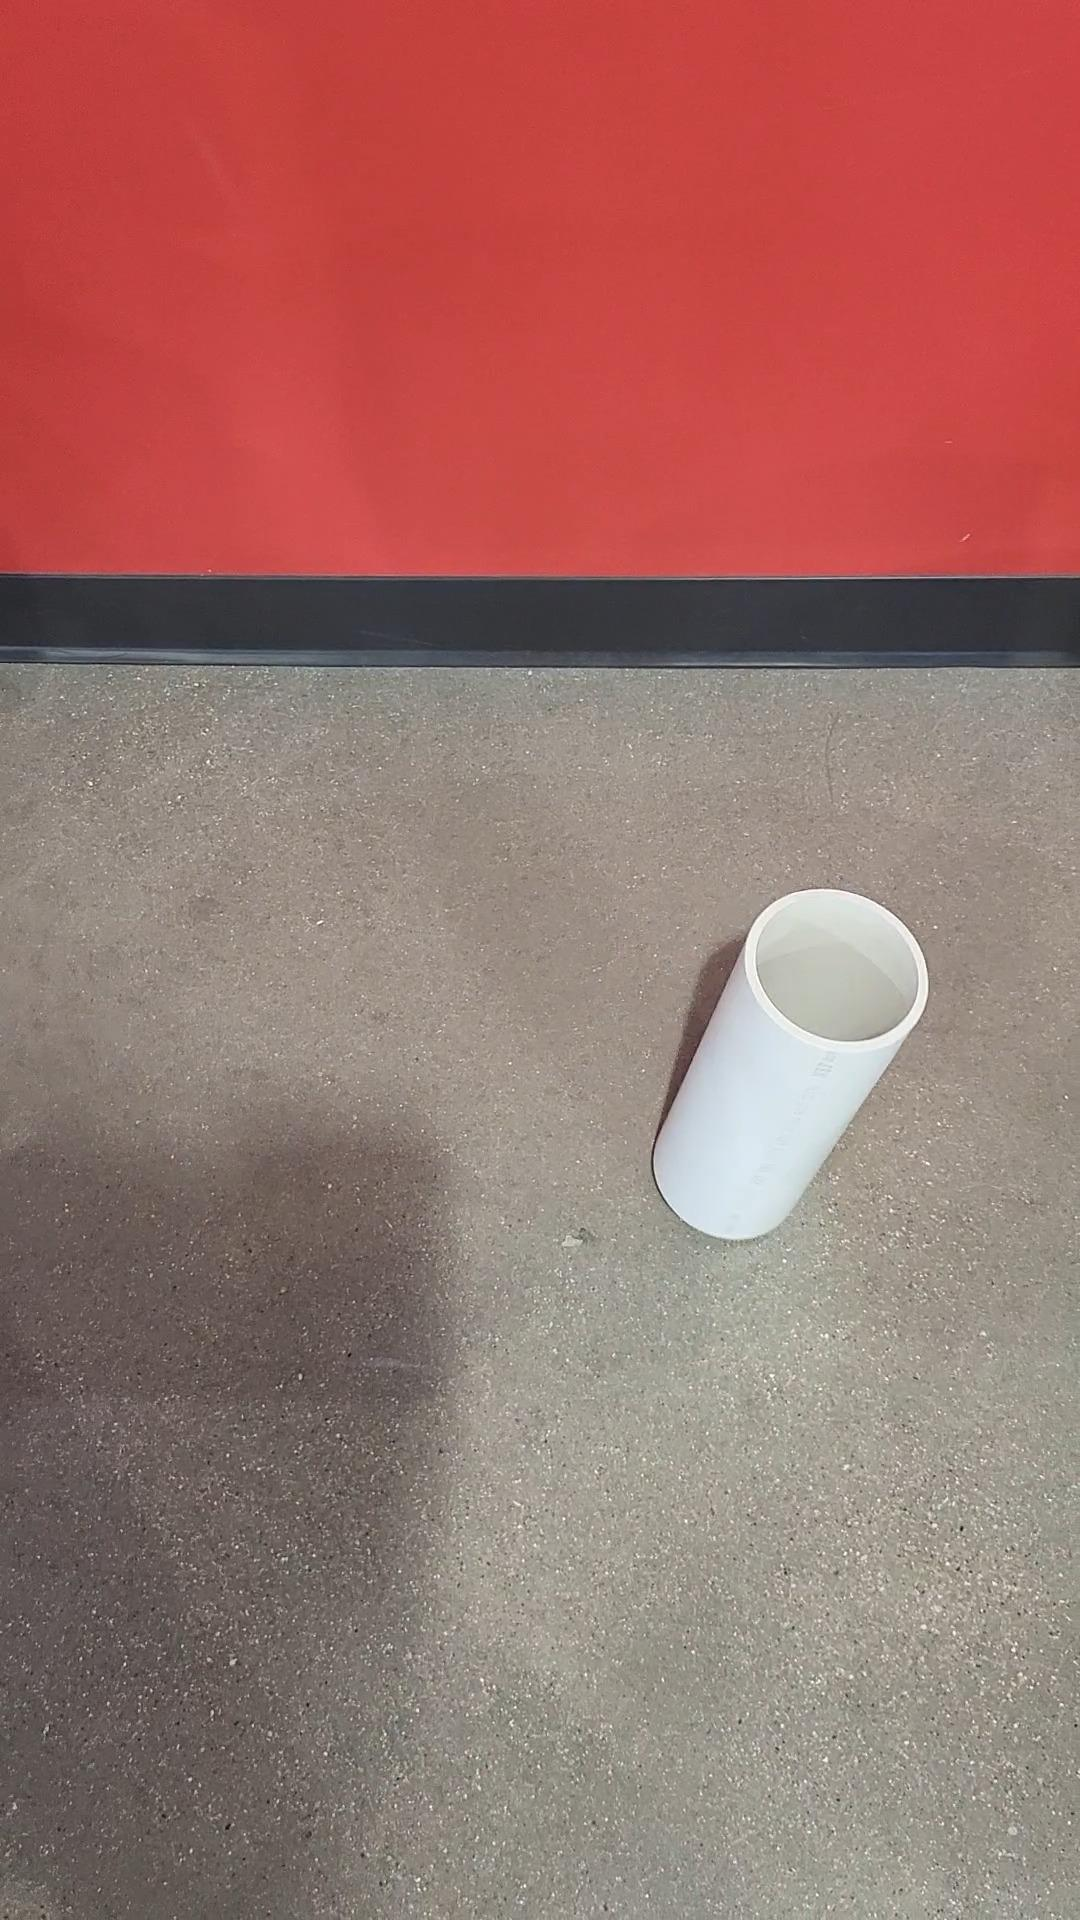coral: (650, 881, 935, 1244)
